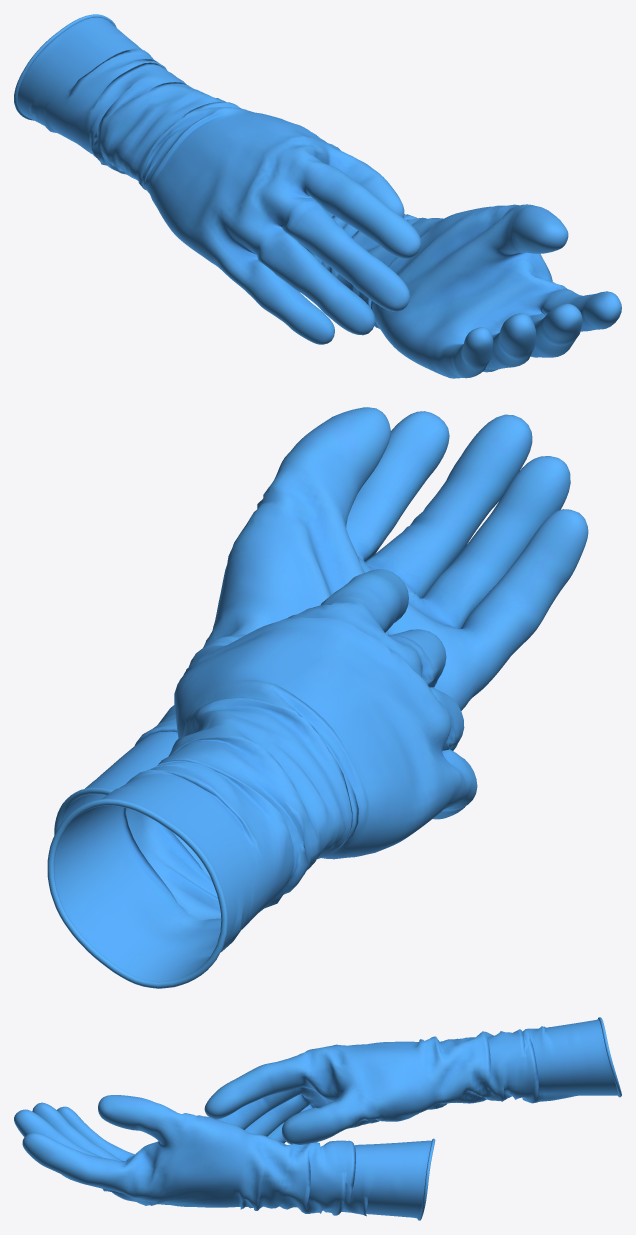
The model's file is MedicalGloves.fbx.
3 views of the same model, one above another, from view 1: azimuth 30°, elevation 25°; view 2: azimuth 150°, elevation 25°; view 3: azimuth 270°, elevation 25° (orthographic). The views are drawn at different scales.
Parts seen in each view (by area): view 1: node_91dfb6f0_d1fa_47a0_a81b_1ccc6b353181_mesh0, node_72f18d6d_d786_4379_ab5f_140a6728d491_mesh0; view 2: node_91dfb6f0_d1fa_47a0_a81b_1ccc6b353181_mesh0, node_72f18d6d_d786_4379_ab5f_140a6728d491_mesh0; view 3: node_72f18d6d_d786_4379_ab5f_140a6728d491_mesh0, node_91dfb6f0_d1fa_47a0_a81b_1ccc6b353181_mesh0.
Part boxes in pixels (<box>): node_91dfb6f0_d1fa_47a0_a81b_1ccc6b353181_mesh0: <box>14,14,421,344</box>; node_72f18d6d_d786_4379_ab5f_140a6728d491_mesh0: <box>298,204,621,378</box>; node_91dfb6f0_d1fa_47a0_a81b_1ccc6b353181_mesh0: <box>47,569,477,988</box>; node_72f18d6d_d786_4379_ab5f_140a6728d491_mesh0: <box>54,407,588,835</box>; node_72f18d6d_d786_4379_ab5f_140a6728d491_mesh0: <box>14,1095,435,1220</box>; node_91dfb6f0_d1fa_47a0_a81b_1ccc6b353181_mesh0: <box>204,1017,621,1144</box>.
Bounding box in the file's own units: 1400 × 1044 × 3593.
1 material, 1 textured.
